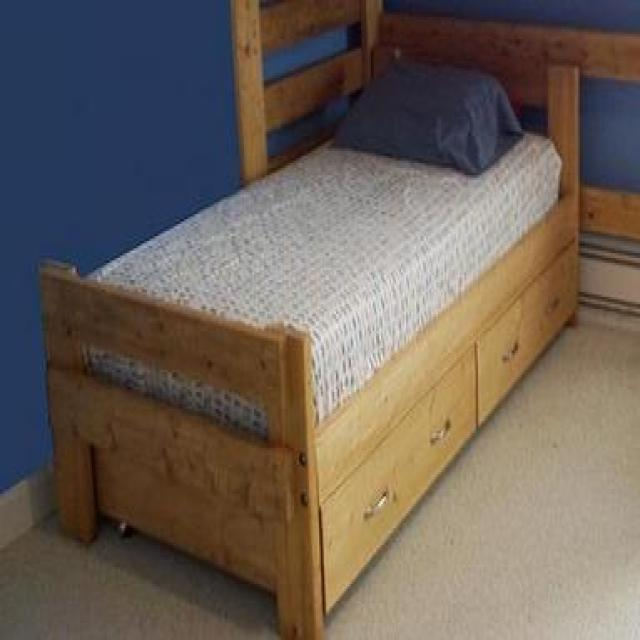bed: (35, 0, 598, 638)
